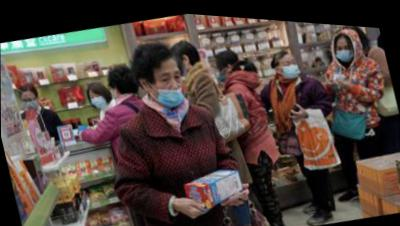OK: (335, 34, 357, 60), (281, 53, 302, 78), (21, 94, 40, 114), (90, 89, 108, 110), (215, 60, 229, 81)
WRONG: (151, 63, 190, 110)
